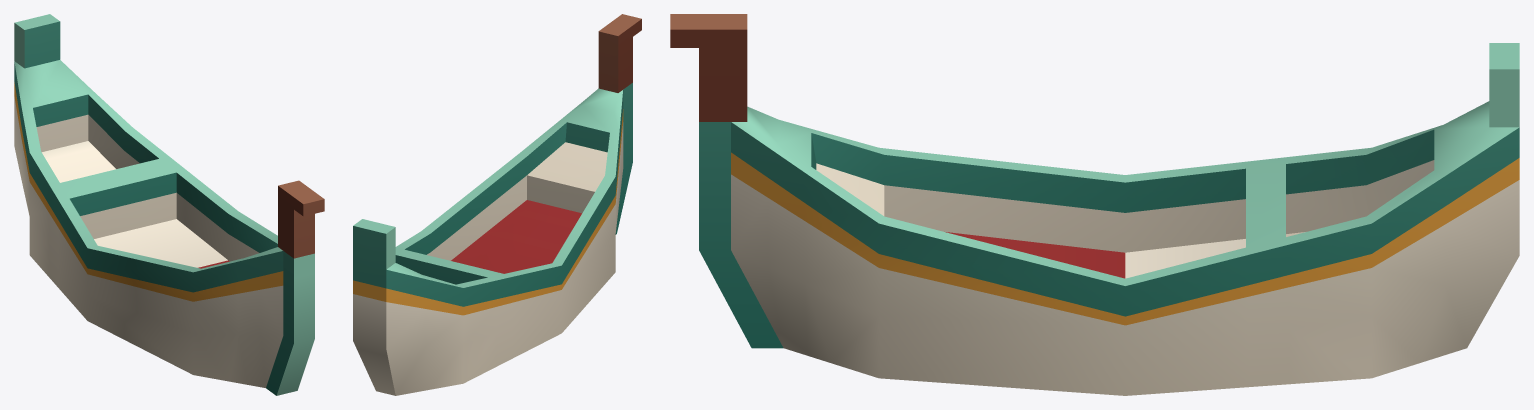
File: Scene_3_Lv2_RiverBoat_2.FBX
The picture shows the model from 3 angles, left to right: view 1: azimuth 30°, elevation 25°; view 2: azimuth 150°, elevation 25°; view 3: azimuth 270°, elevation 25°; orthographic projection. The views are drawn at different scales.
Visible parts, largest first — view 1: Scene_3_Lv2_RiverBoat_2; view 2: Scene_3_Lv2_RiverBoat_2; view 3: Scene_3_Lv2_RiverBoat_2.
Boxes of the visible parts, left/top/right/bottom form: Scene_3_Lv2_RiverBoat_2: left=14, top=14, right=324, bottom=395; Scene_3_Lv2_RiverBoat_2: left=353, top=14, right=641, bottom=395; Scene_3_Lv2_RiverBoat_2: left=670, top=14, right=1519, bottom=395.
Bounding box in the file's own units: 180 × 241 × 582.
